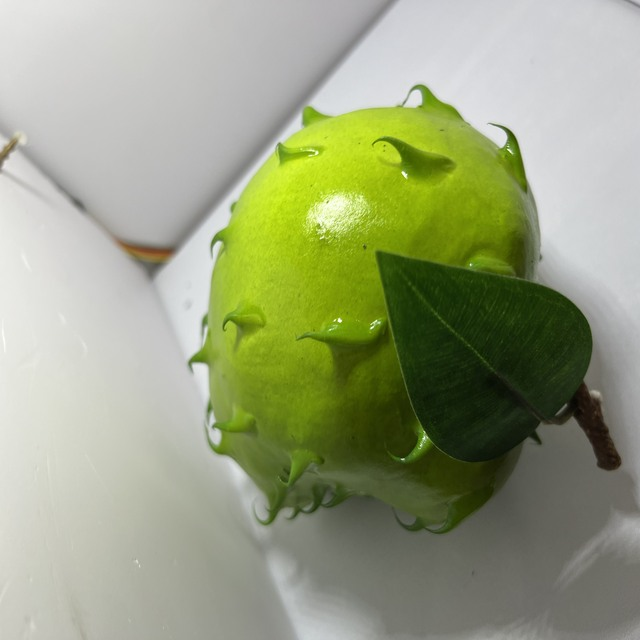Man cau: (182, 80, 583, 551)
